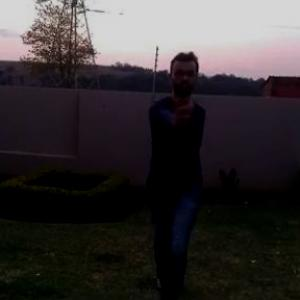takeoff-hand: (169, 91, 197, 127)
